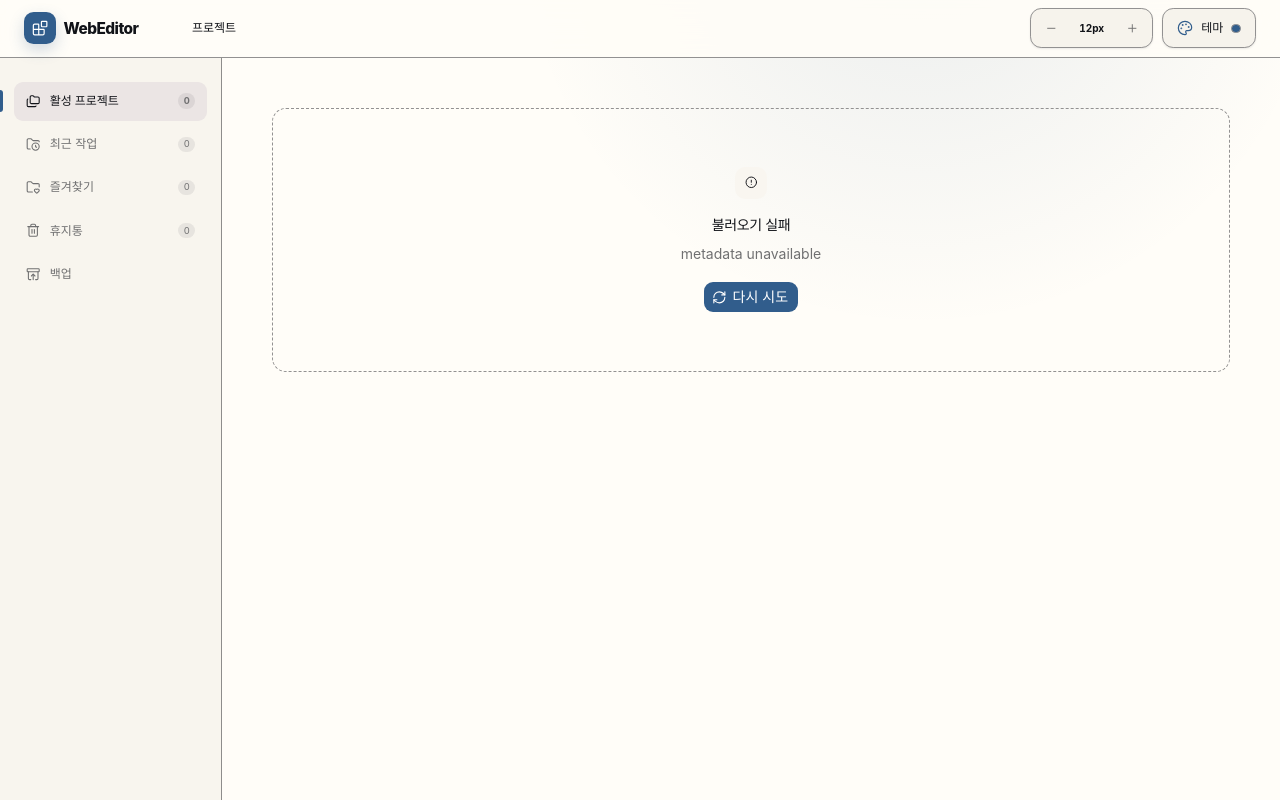
Test: WebEditor persistent project home › shows a load error and retries the real list endpoints
expect the text "불러오기 실패" is shown: met, box [712, 215, 790, 235]
expect the text "metadata unavailable" is shown: met, box [681, 243, 821, 265]
Click the button "다시 시도" at (751, 297), box [703, 281, 799, 313]
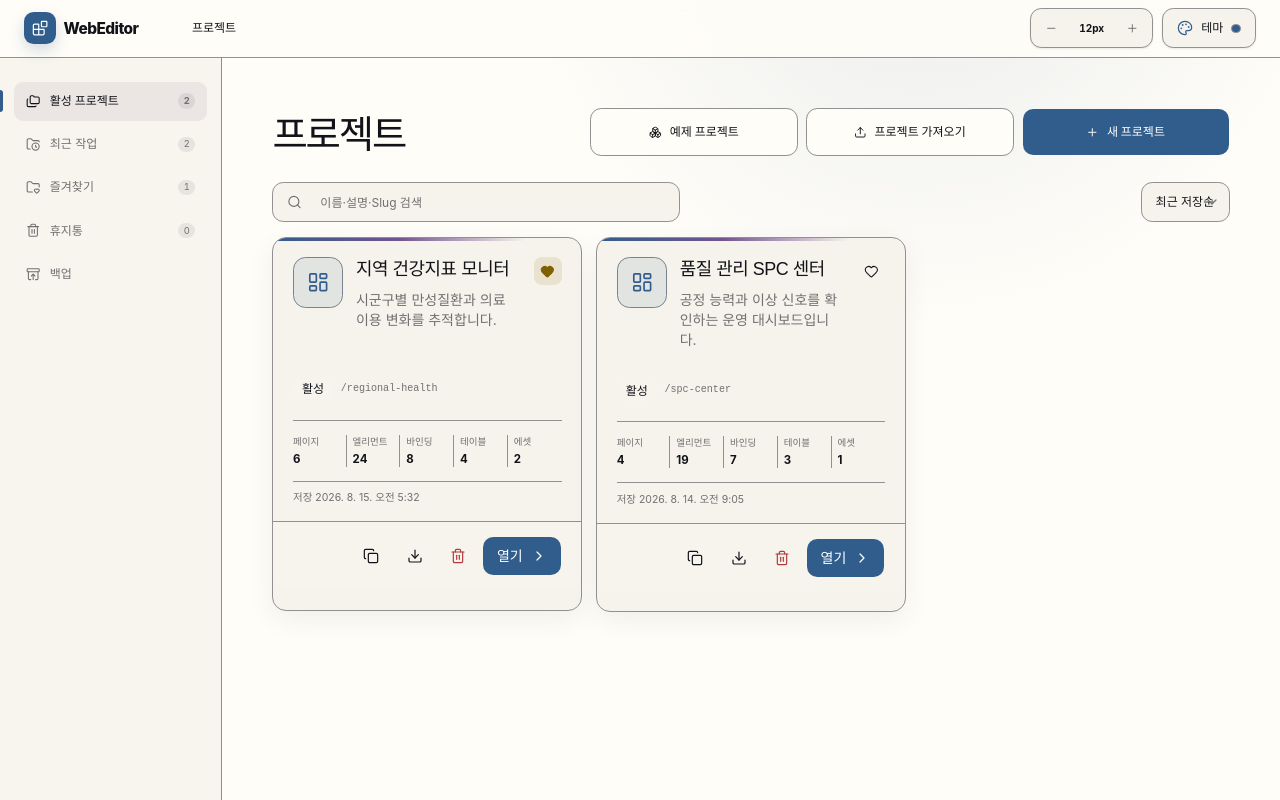
expect the heading "지역 건강지표 모니터" is shown: met, box [356, 257, 521, 282]
